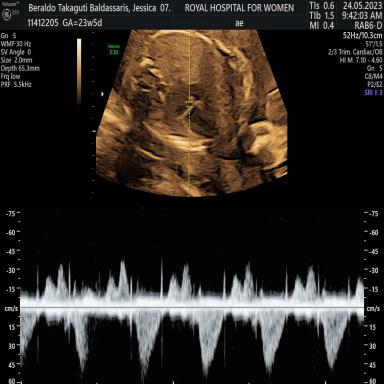Ultrasound-Waves: (26, 212, 360, 384)
